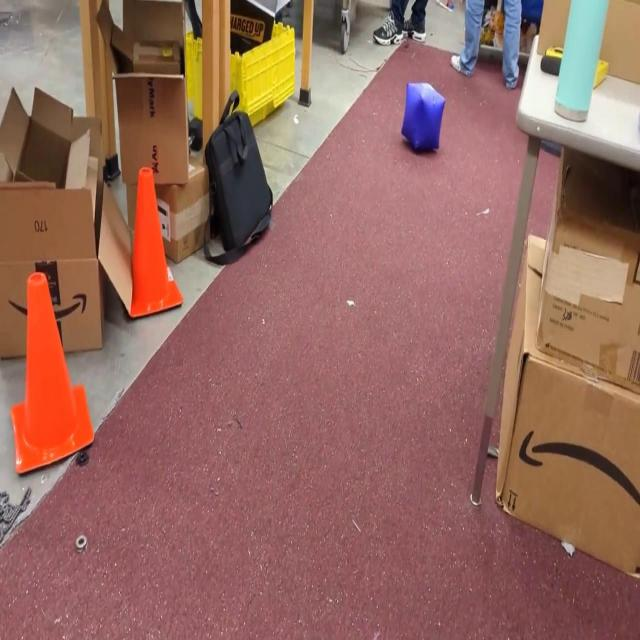frc_cube: (400, 79, 448, 155)
